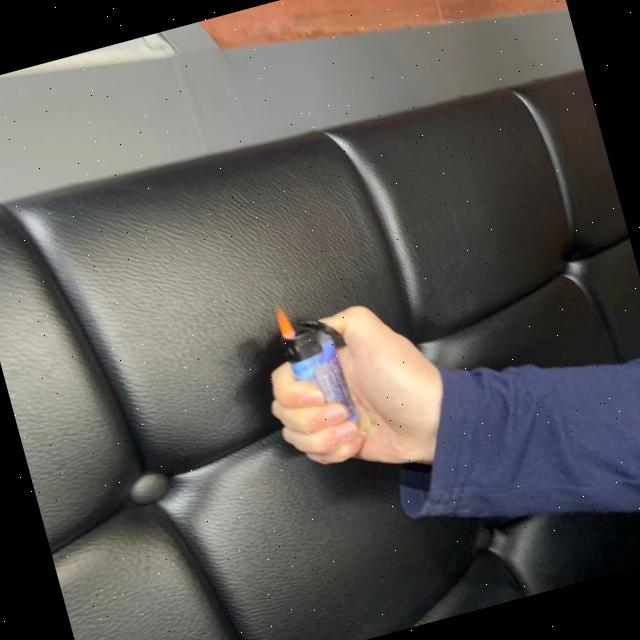fire: (273, 302, 298, 342)
